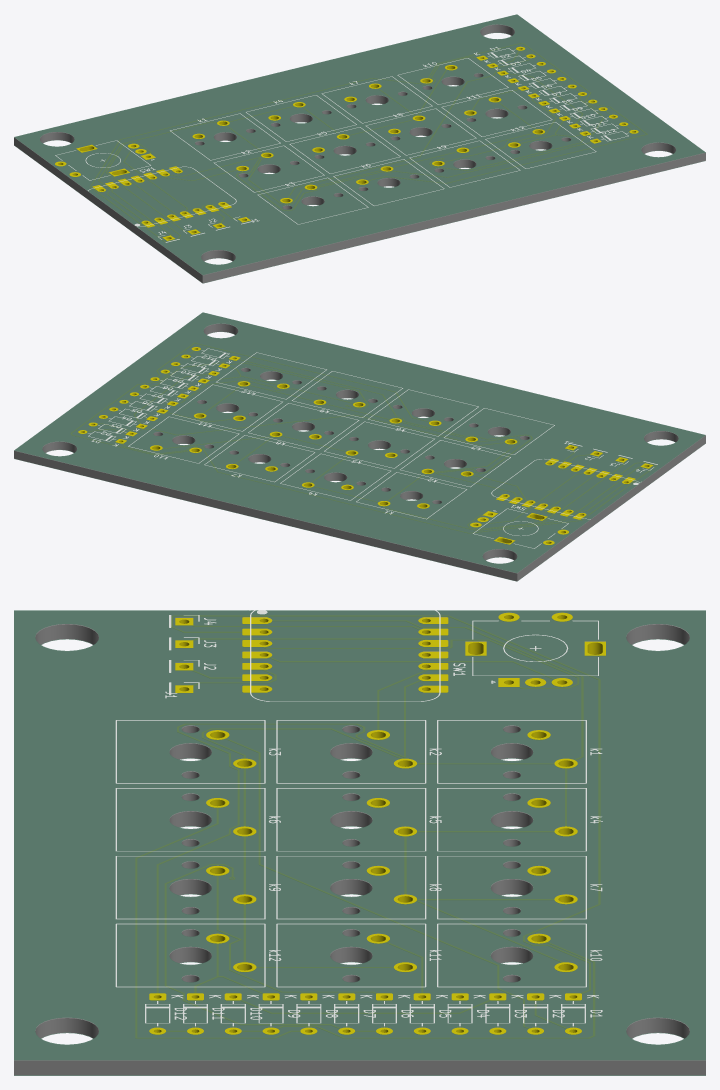
The model's file is Hackpad V1.glb.
3 renders of one model, top to bottom at view 1: azimuth 30°, elevation 25°; view 2: azimuth 150°, elevation 25°; view 3: azimuth 270°, elevation 25°, orthographic. The views are drawn at different scales.
Visible parts, largest first — view 1: =>[0:1:1:6], =>[0:1:1:8], =>[0:1:1:5], =>[0:1:1:3], =>[0:1:1:7], =>[0:1:1:2]; view 2: =>[0:1:1:6], =>[0:1:1:8], =>[0:1:1:5], =>[0:1:1:3], =>[0:1:1:7], =>[0:1:1:2]; view 3: =>[0:1:1:6], =>[0:1:1:8], =>[0:1:1:5], =>[0:1:1:3], =>[0:1:1:2], =>[0:1:1:7].
Boxes of the visible parts, box(x1,y1,x2,y2) form: =>[0:1:1:6]: box(14, 14, 705, 274); =>[0:1:1:8]: box(14, 15, 705, 283); =>[0:1:1:5]: box(55, 47, 628, 242); =>[0:1:1:3]: box(55, 46, 638, 240); =>[0:1:1:7]: box(14, 32, 704, 283); =>[0:1:1:2]: box(90, 44, 646, 241); =>[0:1:1:6]: box(14, 312, 705, 572); =>[0:1:1:8]: box(14, 313, 705, 581); =>[0:1:1:5]: box(88, 348, 657, 548); =>[0:1:1:3]: box(78, 347, 653, 544); =>[0:1:1:7]: box(15, 331, 705, 581); =>[0:1:1:2]: box(71, 344, 656, 527); =>[0:1:1:6]: box(14, 610, 705, 1060); =>[0:1:1:8]: box(14, 611, 705, 1075); =>[0:1:1:5]: box(115, 610, 602, 1026); =>[0:1:1:3]: box(149, 612, 605, 1034); =>[0:1:1:2]: box(136, 616, 599, 1037); =>[0:1:1:7]: box(14, 639, 705, 1075).
Bounding box in the file's own units: 0.1 × 0.00163 × 0.065.
